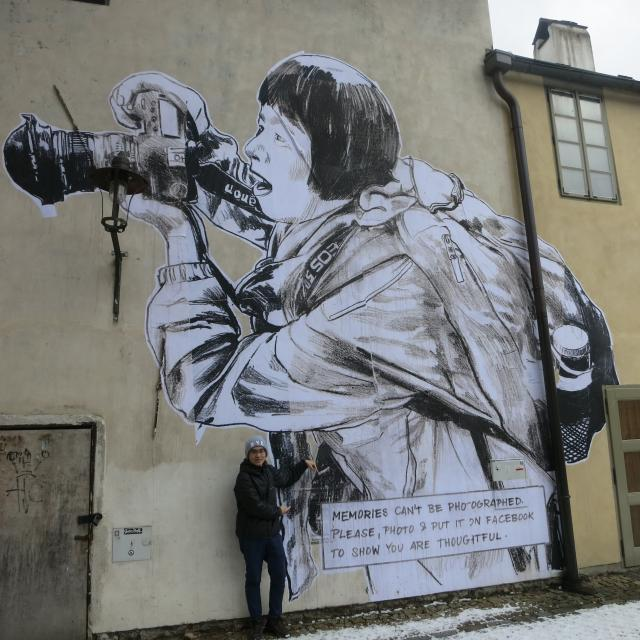-: (9, 50, 616, 602)
